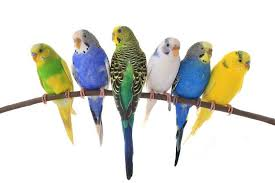budgie: (109, 24, 147, 182), (172, 41, 213, 162), (30, 43, 73, 146), (72, 29, 110, 144), (208, 50, 252, 117), (146, 37, 182, 118)
